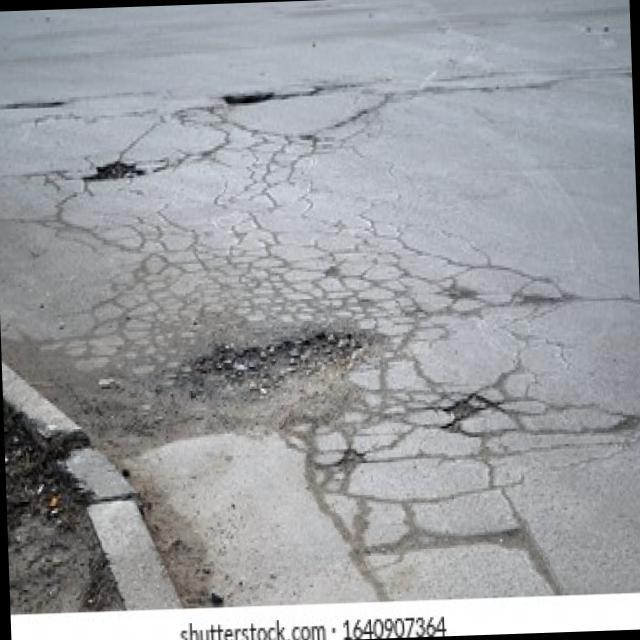Pothole: (188, 321, 362, 437), (81, 157, 146, 184), (220, 90, 274, 108)
